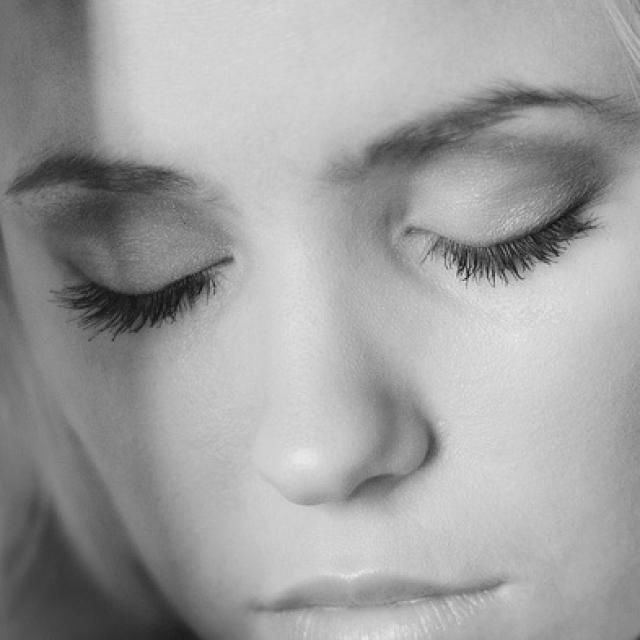real: (46, 24, 632, 600), (49, 158, 628, 348)
